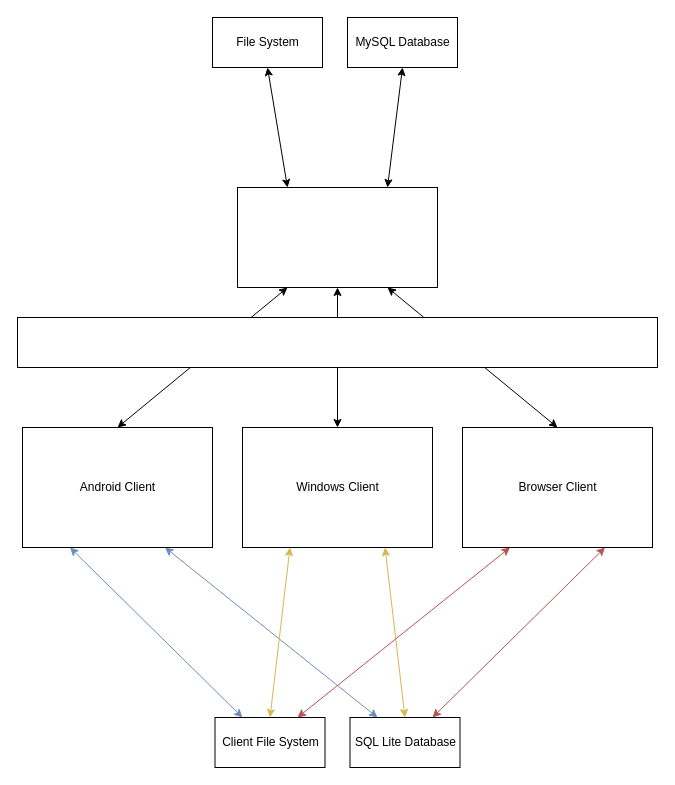
Some shapes in this 675 by 785 pixel diagram are drawn without their labels. The centre of each missing label's shape, as x and y in pixels:
"HTTP API" belongs at [337,342].
"Server" belongs at [337,237].
